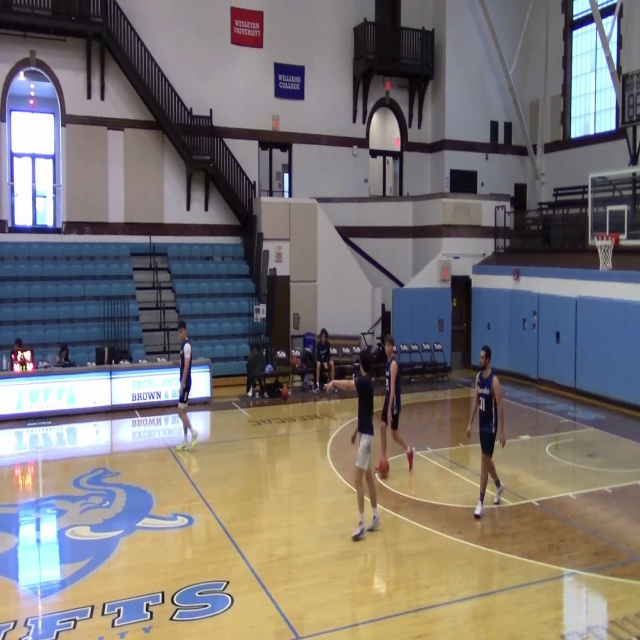Basketball: (376, 458, 389, 479)
